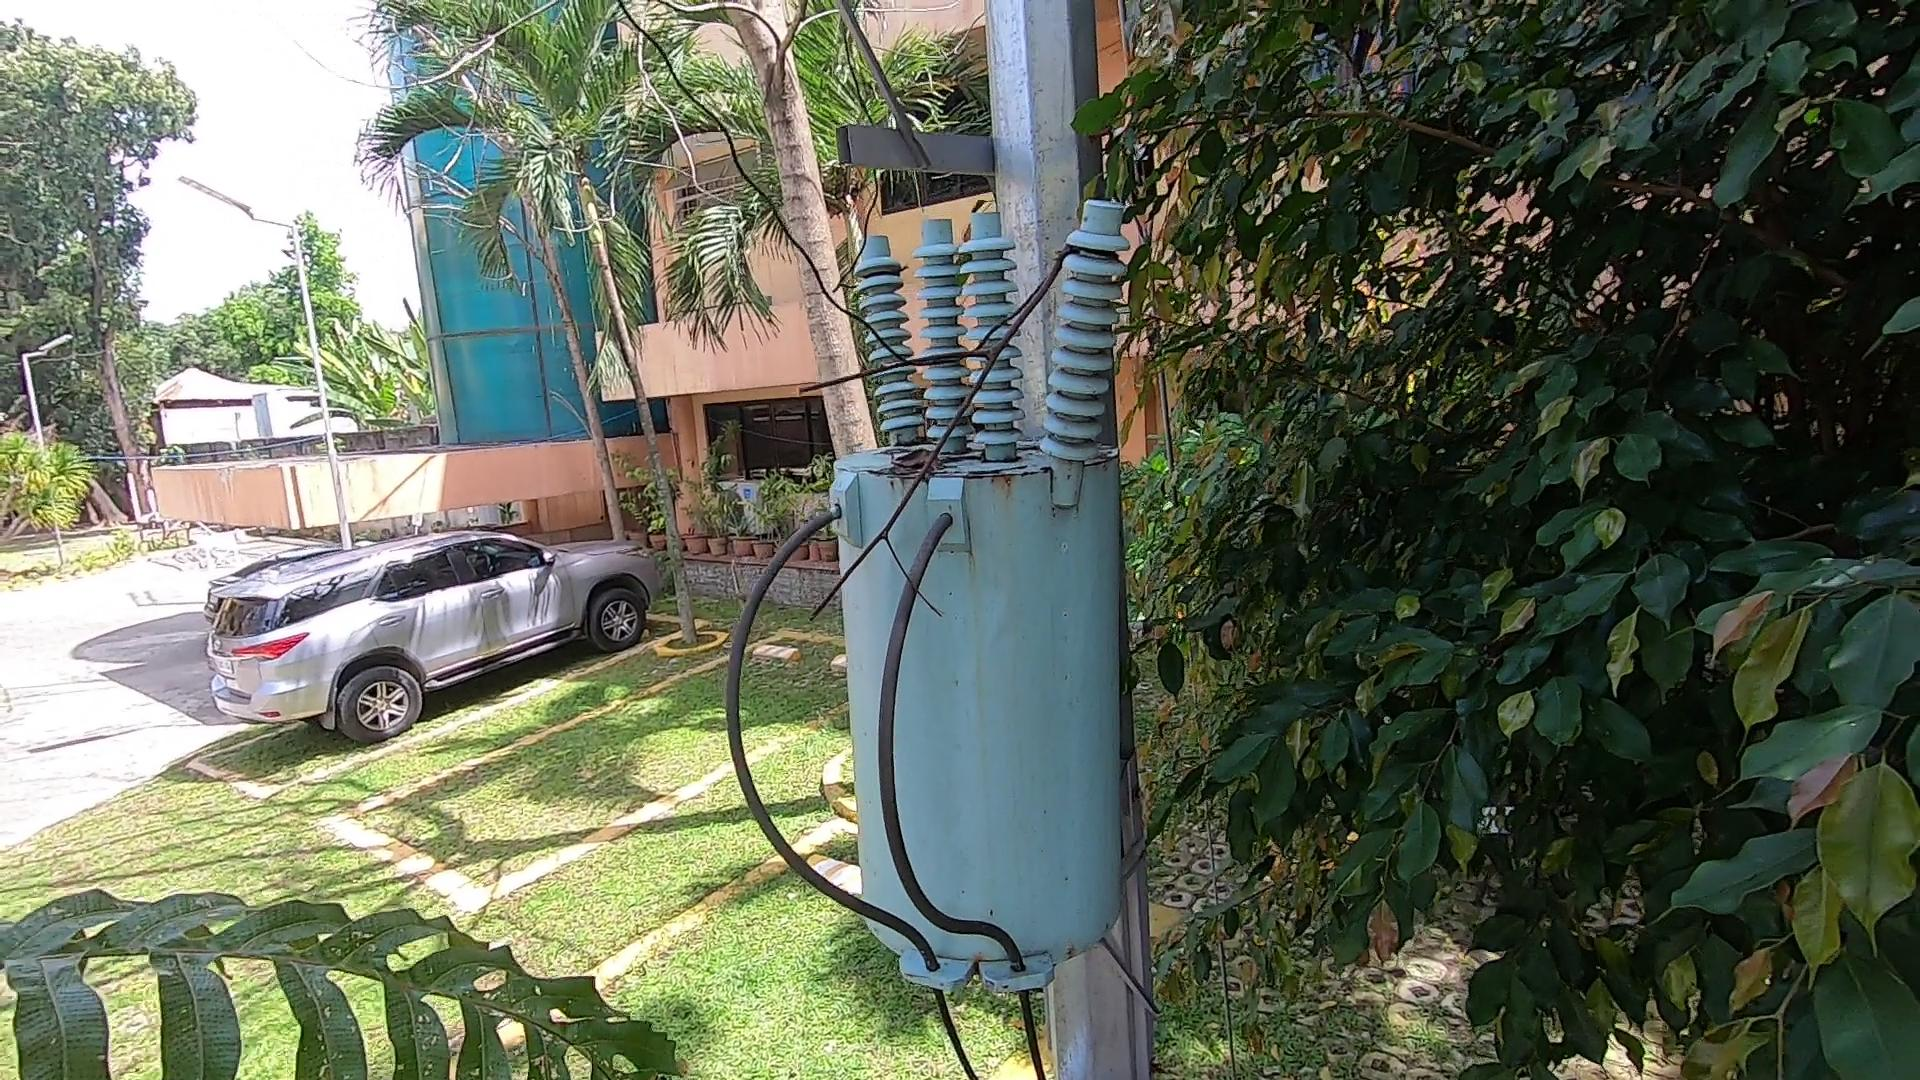leaf: (881, 435, 947, 487)
tree branch: (789, 202, 1135, 632)
